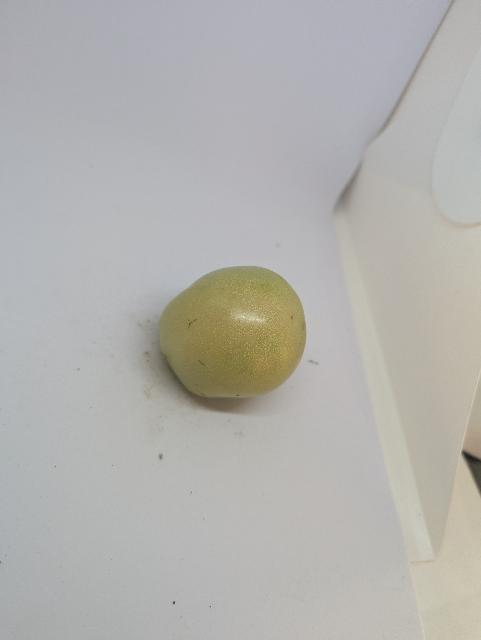breaker: (156, 264, 309, 401)
